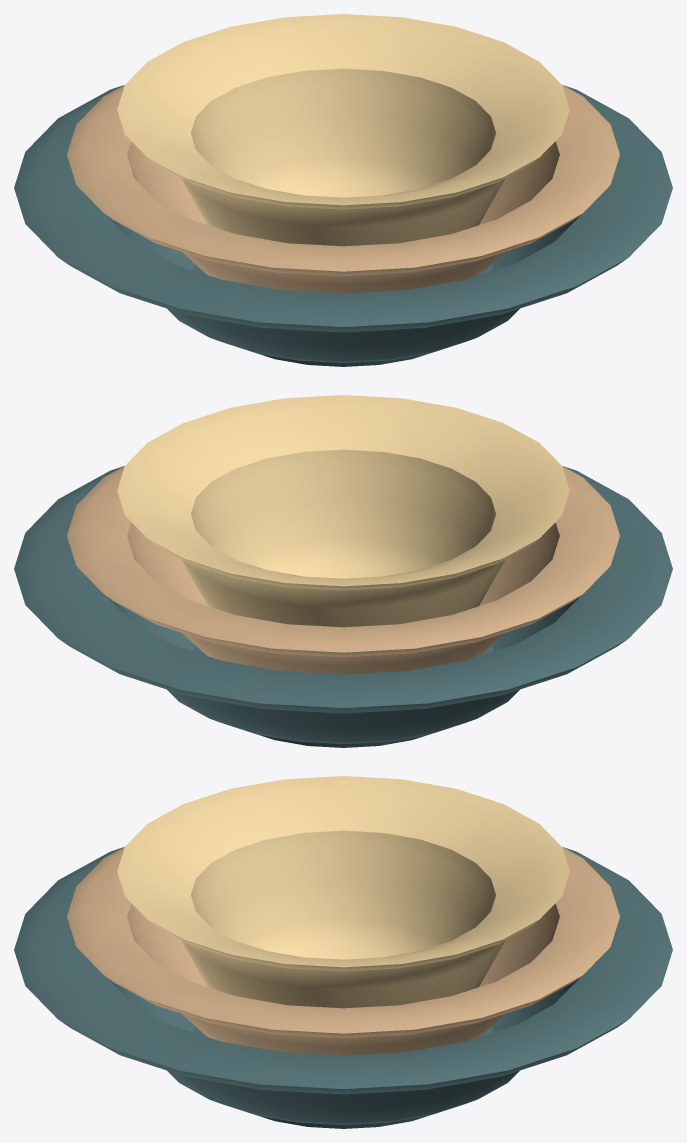
File: SE_117_stacked_plates.glb
3 views of the same model, one above another, from view 1: azimuth 30°, elevation 25°; view 2: azimuth 150°, elevation 25°; view 3: azimuth 270°, elevation 25° (orthographic).
Parts seen in each view (by area): view 1: plate_small, plate_big, plate_medium; view 2: plate_small, plate_big, plate_medium; view 3: plate_small, plate_big, plate_medium.
Part boxes in pixels (x1,y1,x2,y2): plate_small: (117,14,569,246); plate_big: (14,85,672,366); plate_medium: (67,85,619,293); plate_small: (117,395,569,627); plate_big: (14,466,672,747); plate_medium: (67,466,619,674); plate_small: (117,776,569,1008); plate_big: (14,847,672,1128); plate_medium: (67,847,619,1055).
Bounding box in the file's own units: 0.7479 × 0.2494 × 0.7479.
